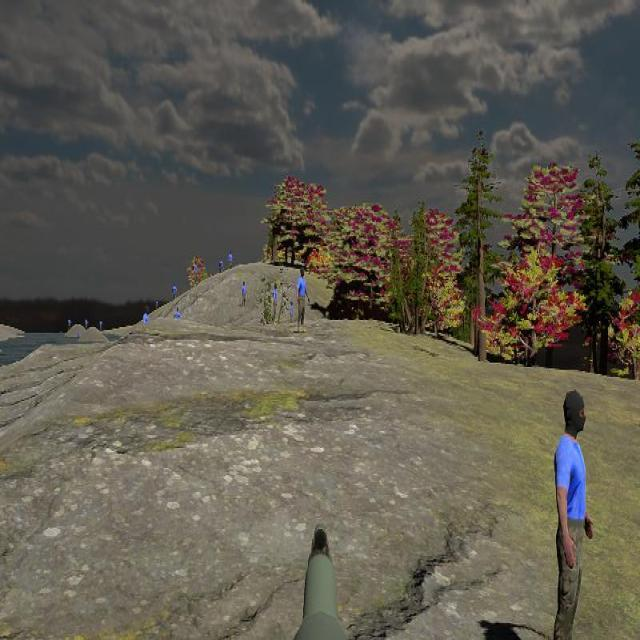Human: (553, 389, 593, 640), (297, 267, 310, 332)
